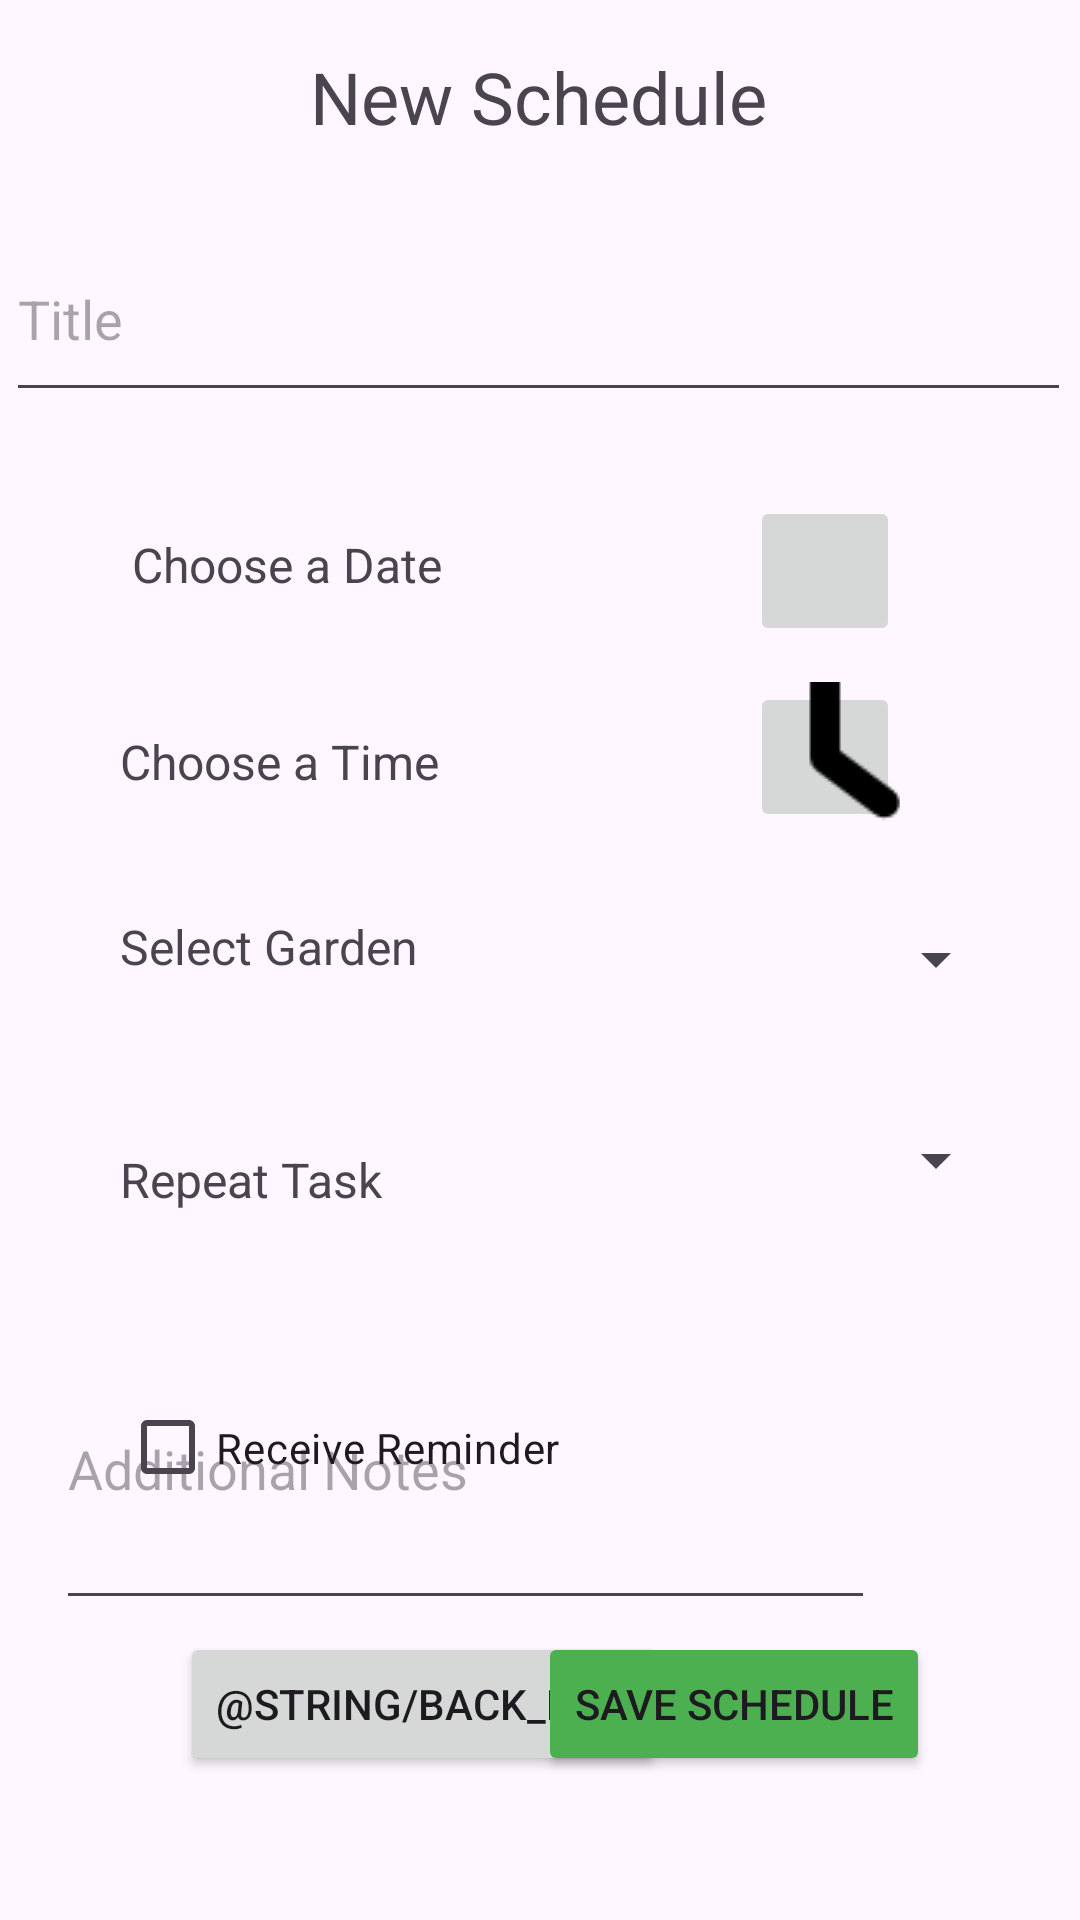

Where icons sit on this 1080*1920 app screen, as (x1, y1, x2, y2):
Choose a Time: (762, 682, 900, 820)
